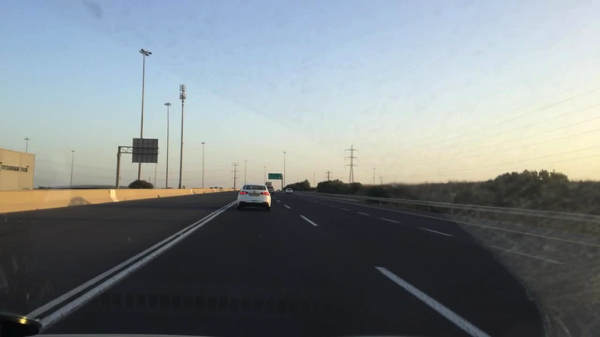car: (236, 185, 272, 213), (265, 186, 276, 196), (283, 186, 293, 196)
traffic sign: (132, 139, 158, 162), (266, 173, 282, 181)
